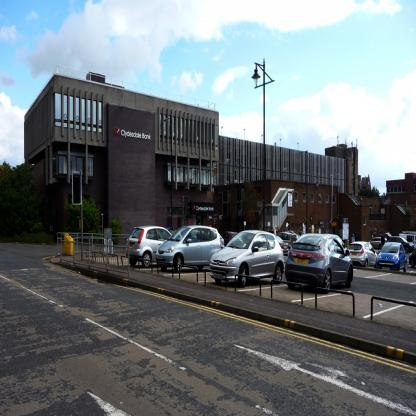Car: (125, 225, 416, 294)
